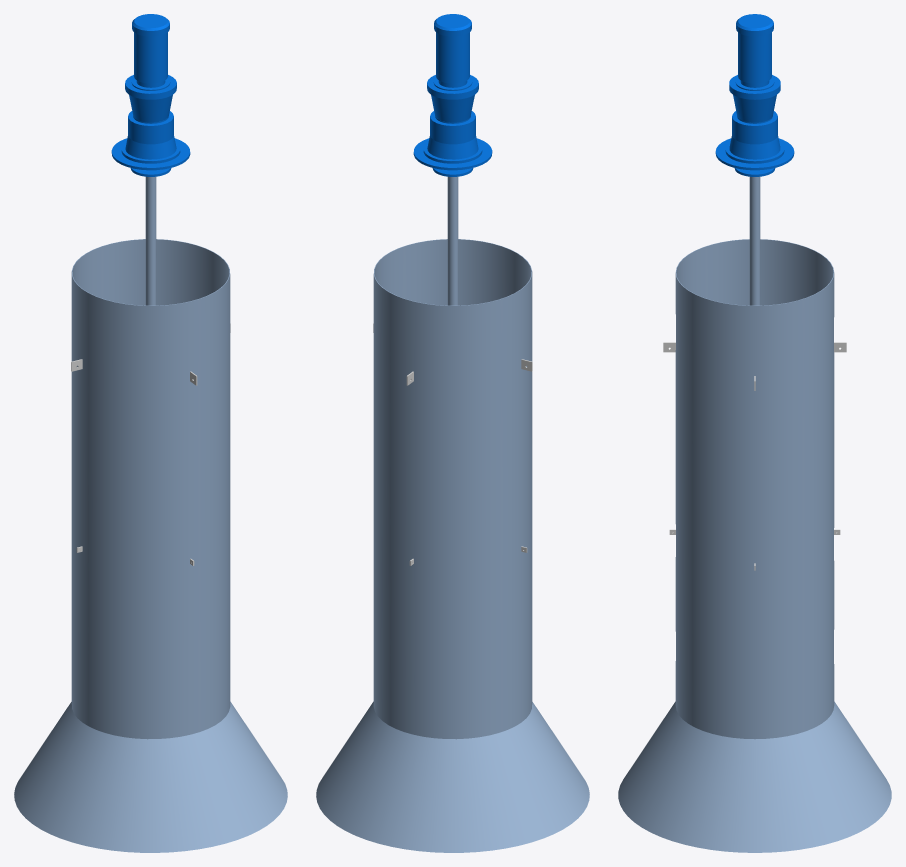
Rendered from slow-speed-stirrer.gltf.
3 views of the same model, side by side, from view 1: azimuth 30°, elevation 25°; view 2: azimuth 150°, elevation 25°; view 3: azimuth 270°, elevation 25° (orthographic).
Parts seen in each view (by area): view 1: 拉伸 [262750], 旋转 [262755], 拉伸 [262944], 拉伸 [262860], 拉伸 [262899], 融合 [262911], 拉伸 [262872], 融合 [262884], 拉伸 [262926]; view 2: 拉伸 [262750], 旋转 [262755], 拉伸 [262944], 拉伸 [262860], 拉伸 [262899], 融合 [262911], 拉伸 [262872], 融合 [262884], 拉伸 [262926]; view 3: 拉伸 [262750], 旋转 [262755], 拉伸 [262944], 拉伸 [262860], 拉伸 [262899], 融合 [262911], 拉伸 [262872], 融合 [262884], 拉伸 [262926].
Boxes of the visible parts, left/top/right/bottom form: 拉伸 [262750]: left=71, top=239, right=230, bottom=739; 旋转 [262755]: left=14, top=701, right=287, bottom=852; 拉伸 [262944]: left=134, top=32, right=167, bottom=83; 拉伸 [262860]: left=145, top=176, right=156, bottom=305; 拉伸 [262899]: left=128, top=111, right=173, bottom=143; 融合 [262911]: left=129, top=95, right=172, bottom=122; 拉伸 [262872]: left=111, top=138, right=190, bottom=170; 融合 [262884]: left=125, top=135, right=176, bottom=159; 拉伸 [262926]: left=125, top=75, right=176, bottom=99; 拉伸 [262750]: left=373, top=239, right=532, bottom=739; 旋转 [262755]: left=316, top=701, right=589, bottom=852; 拉伸 [262944]: left=436, top=32, right=469, bottom=83; 拉伸 [262860]: left=447, top=176, right=458, bottom=305; 拉伸 [262899]: left=430, top=111, right=475, bottom=143; 融合 [262911]: left=431, top=95, right=474, bottom=122; 拉伸 [262872]: left=413, top=138, right=492, bottom=170; 融合 [262884]: left=427, top=135, right=478, bottom=159; 拉伸 [262926]: left=427, top=75, right=478, bottom=99; 拉伸 [262750]: left=675, top=239, right=834, bottom=739; 旋转 [262755]: left=618, top=701, right=891, bottom=852; 拉伸 [262944]: left=738, top=32, right=771, bottom=83; 拉伸 [262860]: left=749, top=176, right=760, bottom=305; 拉伸 [262899]: left=732, top=111, right=777, bottom=143; 融合 [262911]: left=733, top=95, right=776, bottom=122; 拉伸 [262872]: left=715, top=138, right=794, bottom=170; 融合 [262884]: left=729, top=135, right=780, bottom=159; 拉伸 [262926]: left=729, top=75, right=780, bottom=99.
Size of the model in its own units: 2.09 by 6.52 by 2.09.
